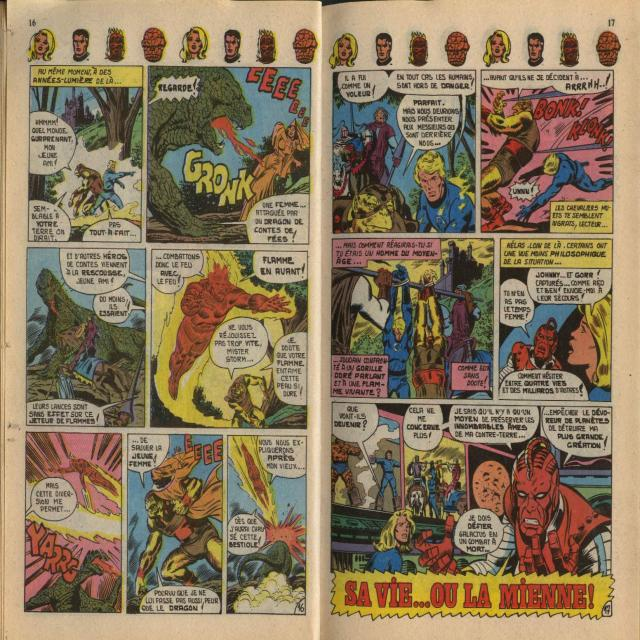comic_panel: (330, 401, 613, 581), (145, 64, 313, 246), (150, 248, 310, 431), (329, 235, 494, 402), (331, 67, 478, 235), (24, 245, 149, 429), (478, 69, 616, 234), (28, 63, 144, 245), (497, 237, 615, 402), (23, 429, 123, 616), (125, 432, 225, 618), (226, 433, 308, 617)
